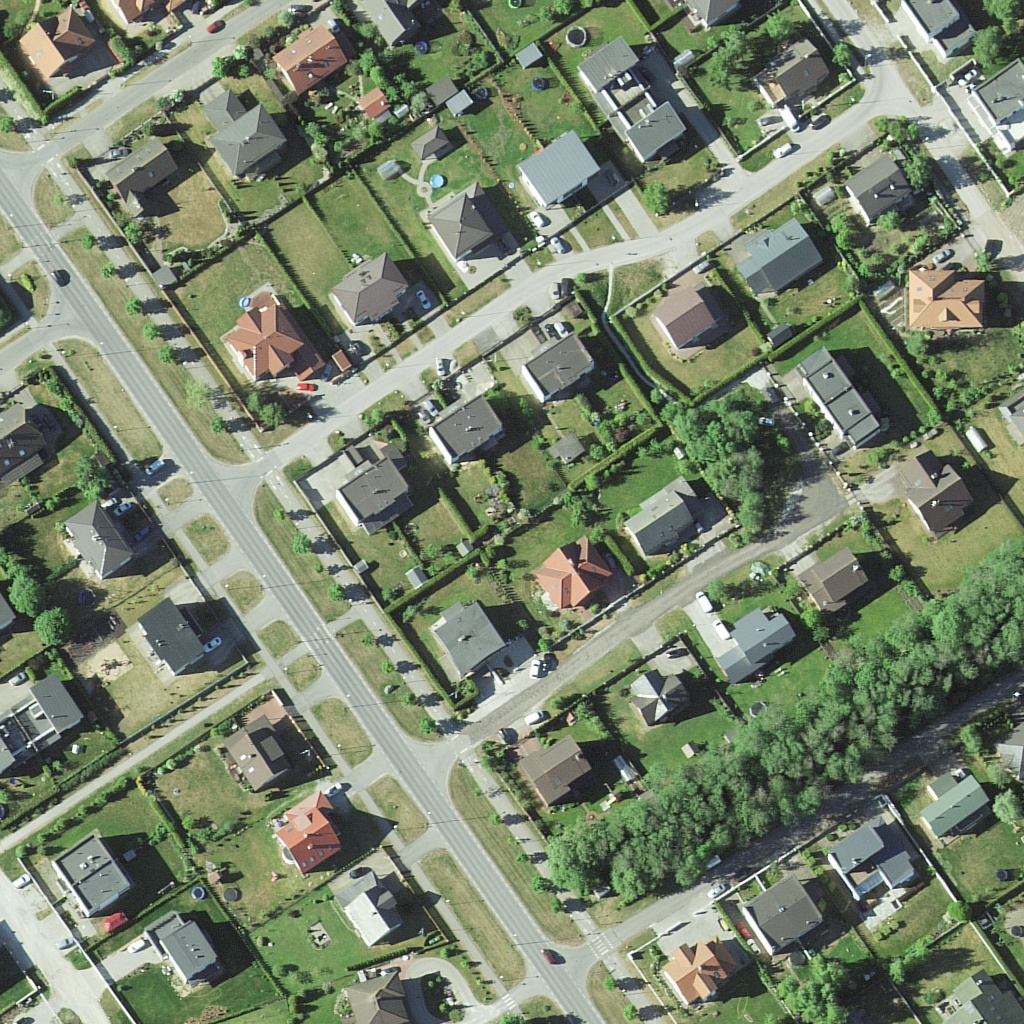building: (889, 253, 988, 346), (801, 345, 888, 448), (224, 298, 318, 390), (733, 214, 822, 308), (46, 833, 137, 924), (517, 123, 604, 217), (202, 86, 294, 169), (138, 587, 218, 675), (142, 913, 226, 996), (631, 473, 709, 561), (334, 455, 414, 535), (535, 533, 614, 613), (901, 452, 975, 534), (333, 876, 407, 957), (741, 882, 825, 953), (721, 604, 791, 689), (330, 253, 411, 324), (270, 795, 336, 881), (819, 821, 909, 884), (423, 604, 505, 672), (425, 175, 492, 258), (837, 149, 931, 208), (522, 330, 596, 404), (68, 499, 137, 578), (429, 397, 505, 466), (228, 718, 292, 797), (653, 277, 719, 352), (104, 139, 185, 199), (799, 546, 869, 615), (270, 31, 345, 94), (24, 12, 98, 75), (625, 663, 690, 731), (660, 939, 725, 1006), (522, 744, 592, 806), (917, 762, 977, 834), (569, 34, 646, 89), (621, 103, 689, 164), (760, 42, 829, 102), (33, 674, 85, 734)
